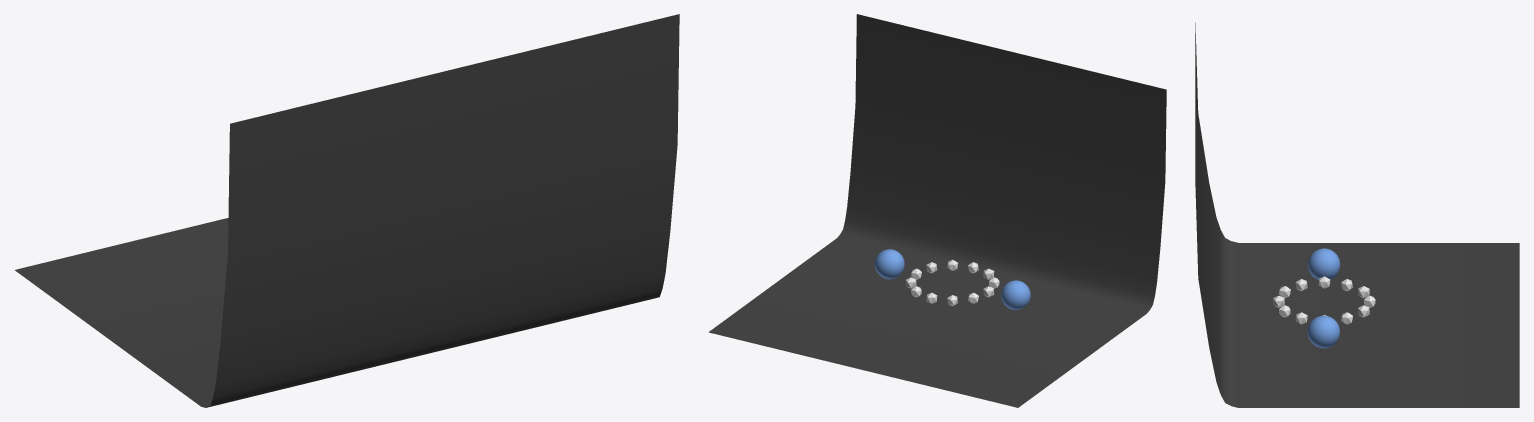
The model's file is carousell.glb.
3 renders of one model, left to right at view 1: azimuth 30°, elevation 25°; view 2: azimuth 150°, elevation 25°; view 3: azimuth 270°, elevation 25°, orthographic. The views are drawn at different scales.
Parts seen in each view (by area): view 1: BG; view 2: BG, left, right; view 3: BG, left, right.
Part boxes in pixels (x1,y1,x2,y2): BG: (15, 14, 679, 407); BG: (708, 14, 1166, 407); left: (874, 249, 904, 279); right: (1001, 280, 1030, 309); BG: (1195, 22, 1519, 407); left: (1307, 315, 1339, 348); right: (1308, 248, 1340, 279).
Bounding box in the file's own units: 17.17 × 11.09 × 14.26.
